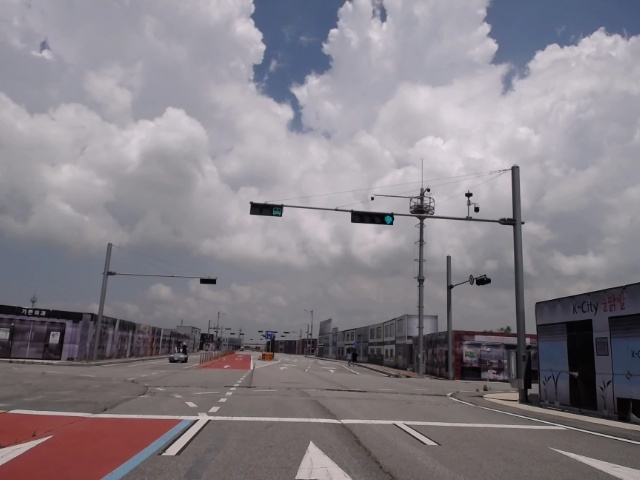straight_green_4: (351, 212, 395, 224)
